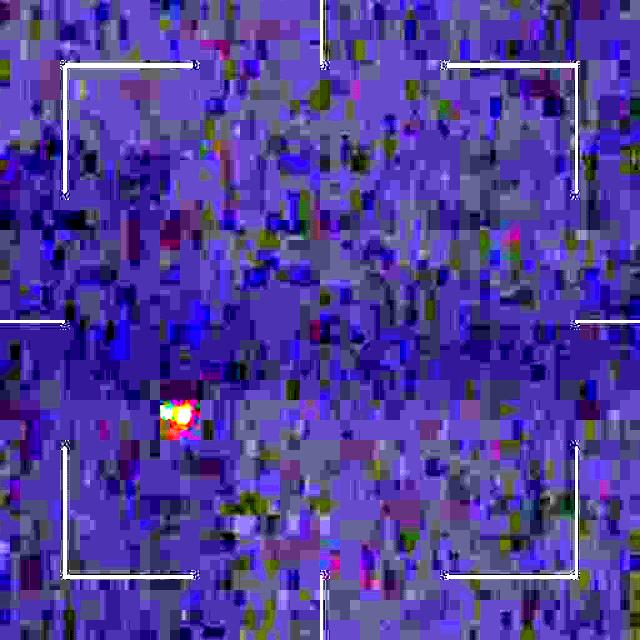bird: (159, 400, 192, 450)
